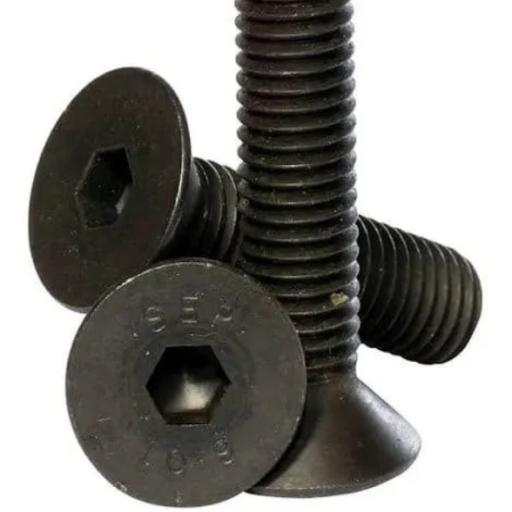Hex-Allen: (65, 257, 308, 509)
